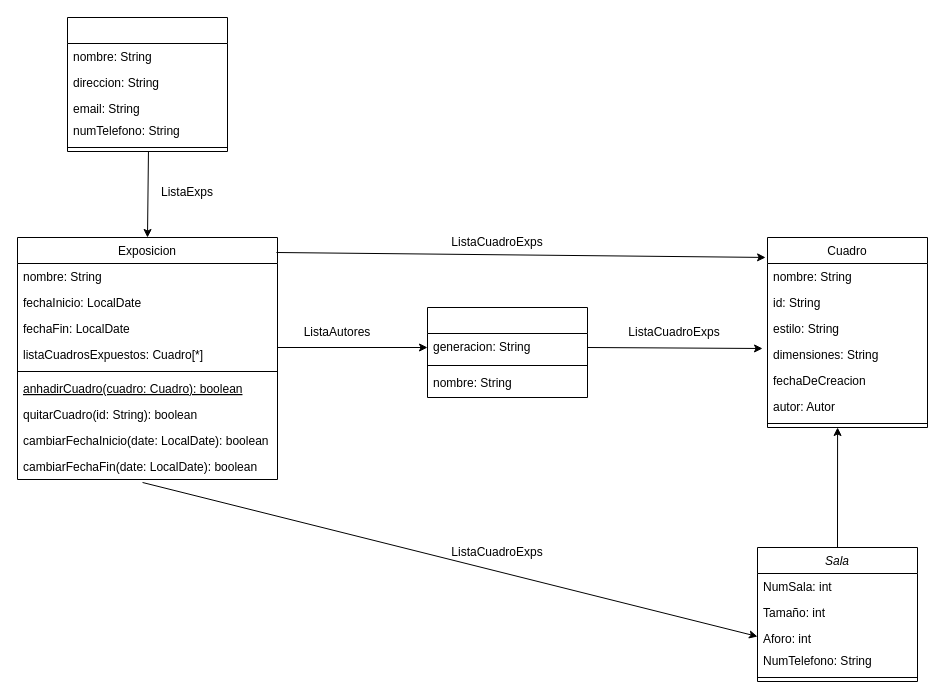
Some shapes in this 945 by 699 pixel diagram are drawn without their labels. The box of each missing label's shape, as (x1, y1, x2, y2) in pixels:
Autor: (426, 306, 588, 398)
Museo: (66, 16, 228, 152)
